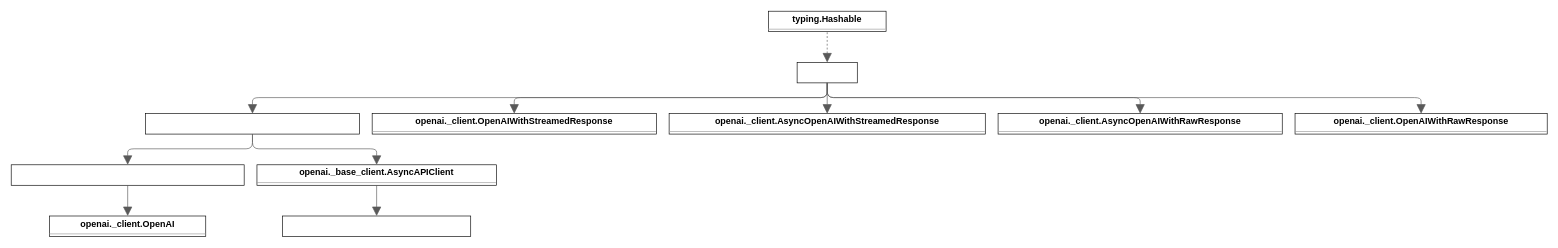
Some shapes in this 1558 by 248 pixel diagram are drawn without their labels. Each missing label, with the centre of its shape:
"object" belongs at (x=826, y=72).
"openai._base_client.BaseClient" belongs at (x=252, y=123).
"openai._base_client.SyncAPIClient" belongs at (x=127, y=174).
"openai._client.AsyncOpenAI" belongs at (x=376, y=225).
